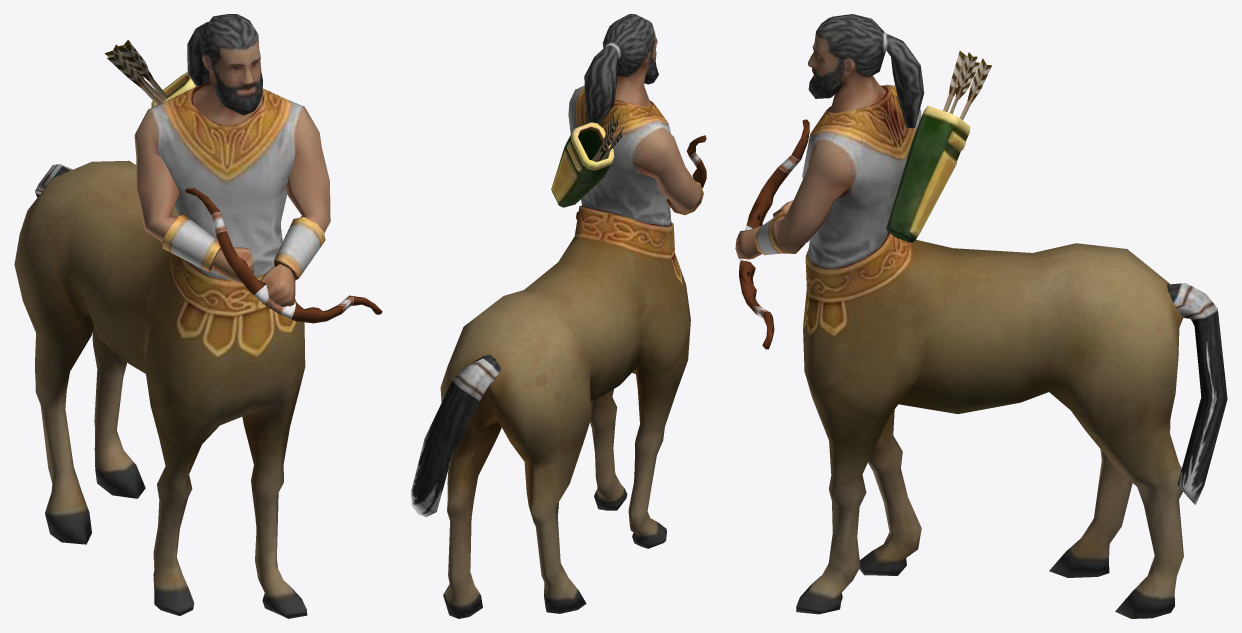
The model's file is 97-chiron.glb.
3 views of the same model, side by side, from view 1: azimuth 30°, elevation 25°; view 2: azimuth 150°, elevation 25°; view 3: azimuth 270°, elevation 25° (orthographic). The views are drawn at different scales.
Bounding box in the file's own units: 1.05 × 3.13 × 2.43.
Materials: 2 (2 with a texture image).
